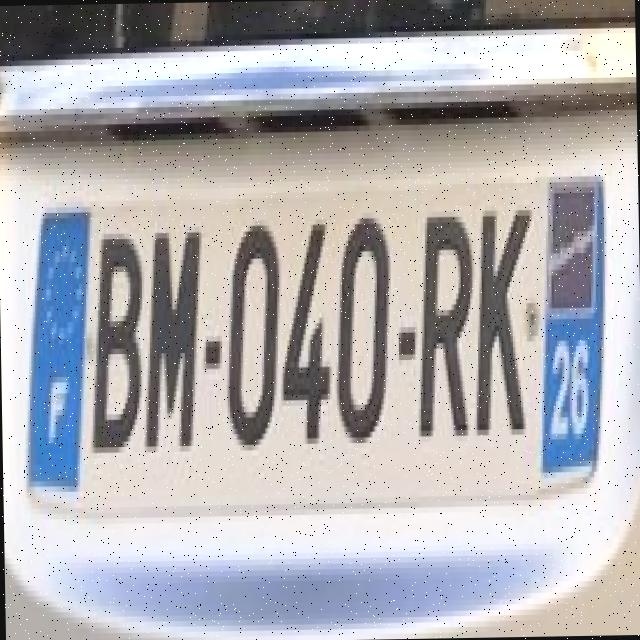EU: (26, 174, 603, 495)
France: (24, 204, 87, 489)
